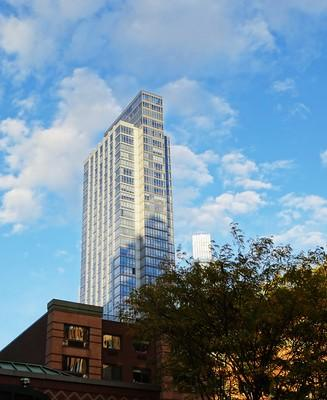building: (76, 88, 178, 353)
